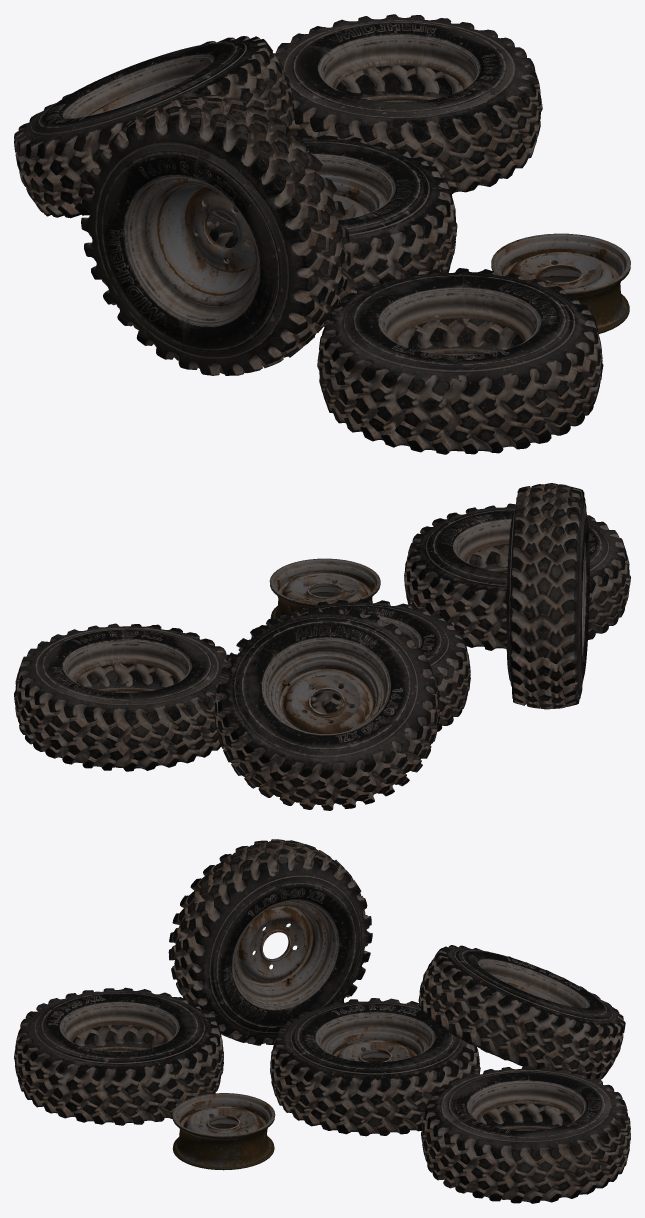
The model's file is offroad-tires.glb.
The picture shows the model from 3 angles, top to bottom: view 1: azimuth 30°, elevation 25°; view 2: azimuth 150°, elevation 25°; view 3: azimuth 270°, elevation 25°; orthographic projection. The views are drawn at different scales.
Parts seen in each view (by area): view 1: SK_Offroad_Tire_01.004, SK_Offroad_Tire_01.010, SK_Offroad_Tire_01.011, SK_Offroad_Tire_01.009, SK_Offroad_Tire_01.008, SK_Offroad_Tire_01.012; view 2: SK_Offroad_Tire_01.009, SK_Offroad_Tire_01.011, SK_Offroad_Tire_01.004, SK_Offroad_Tire_01.010, SK_Offroad_Tire_01.008, SK_Offroad_Tire_01.012; view 3: SK_Offroad_Tire_01.004, SK_Offroad_Tire_01.011, SK_Offroad_Tire_01.010, SK_Offroad_Tire_01.008, SK_Offroad_Tire_01.009, SK_Offroad_Tire_01.012.
Boxes of the visible parts, bbox=[...] form: SK_Offroad_Tire_01.004: bbox=[81, 95, 350, 375]; SK_Offroad_Tire_01.010: bbox=[317, 268, 603, 454]; SK_Offroad_Tire_01.011: bbox=[273, 14, 542, 194]; SK_Offroad_Tire_01.009: bbox=[14, 36, 294, 218]; SK_Offroad_Tire_01.008: bbox=[195, 135, 457, 314]; SK_Offroad_Tire_01.012: bbox=[491, 233, 630, 333]; SK_Offroad_Tire_01.009: bbox=[214, 607, 439, 810]; SK_Offroad_Tire_01.011: bbox=[14, 623, 228, 771]; SK_Offroad_Tire_01.004: bbox=[506, 483, 589, 709]; SK_Offroad_Tire_01.010: bbox=[404, 503, 630, 650]; SK_Offroad_Tire_01.008: bbox=[251, 599, 470, 731]; SK_Offroad_Tire_01.012: bbox=[269, 558, 380, 618]; SK_Offroad_Tire_01.004: bbox=[168, 839, 372, 1045]; SK_Offroad_Tire_01.011: bbox=[421, 1066, 630, 1203]; SK_Offroad_Tire_01.010: bbox=[14, 987, 223, 1125]; SK_Offroad_Tire_01.008: bbox=[270, 998, 480, 1136]; SK_Offroad_Tire_01.009: bbox=[418, 945, 625, 1079]; SK_Offroad_Tire_01.012: bbox=[172, 1093, 275, 1170].
Bounding box in the file's own units: 2.14 × 0.9437 × 2.75.
Materials: 1 (1 with a texture image).
